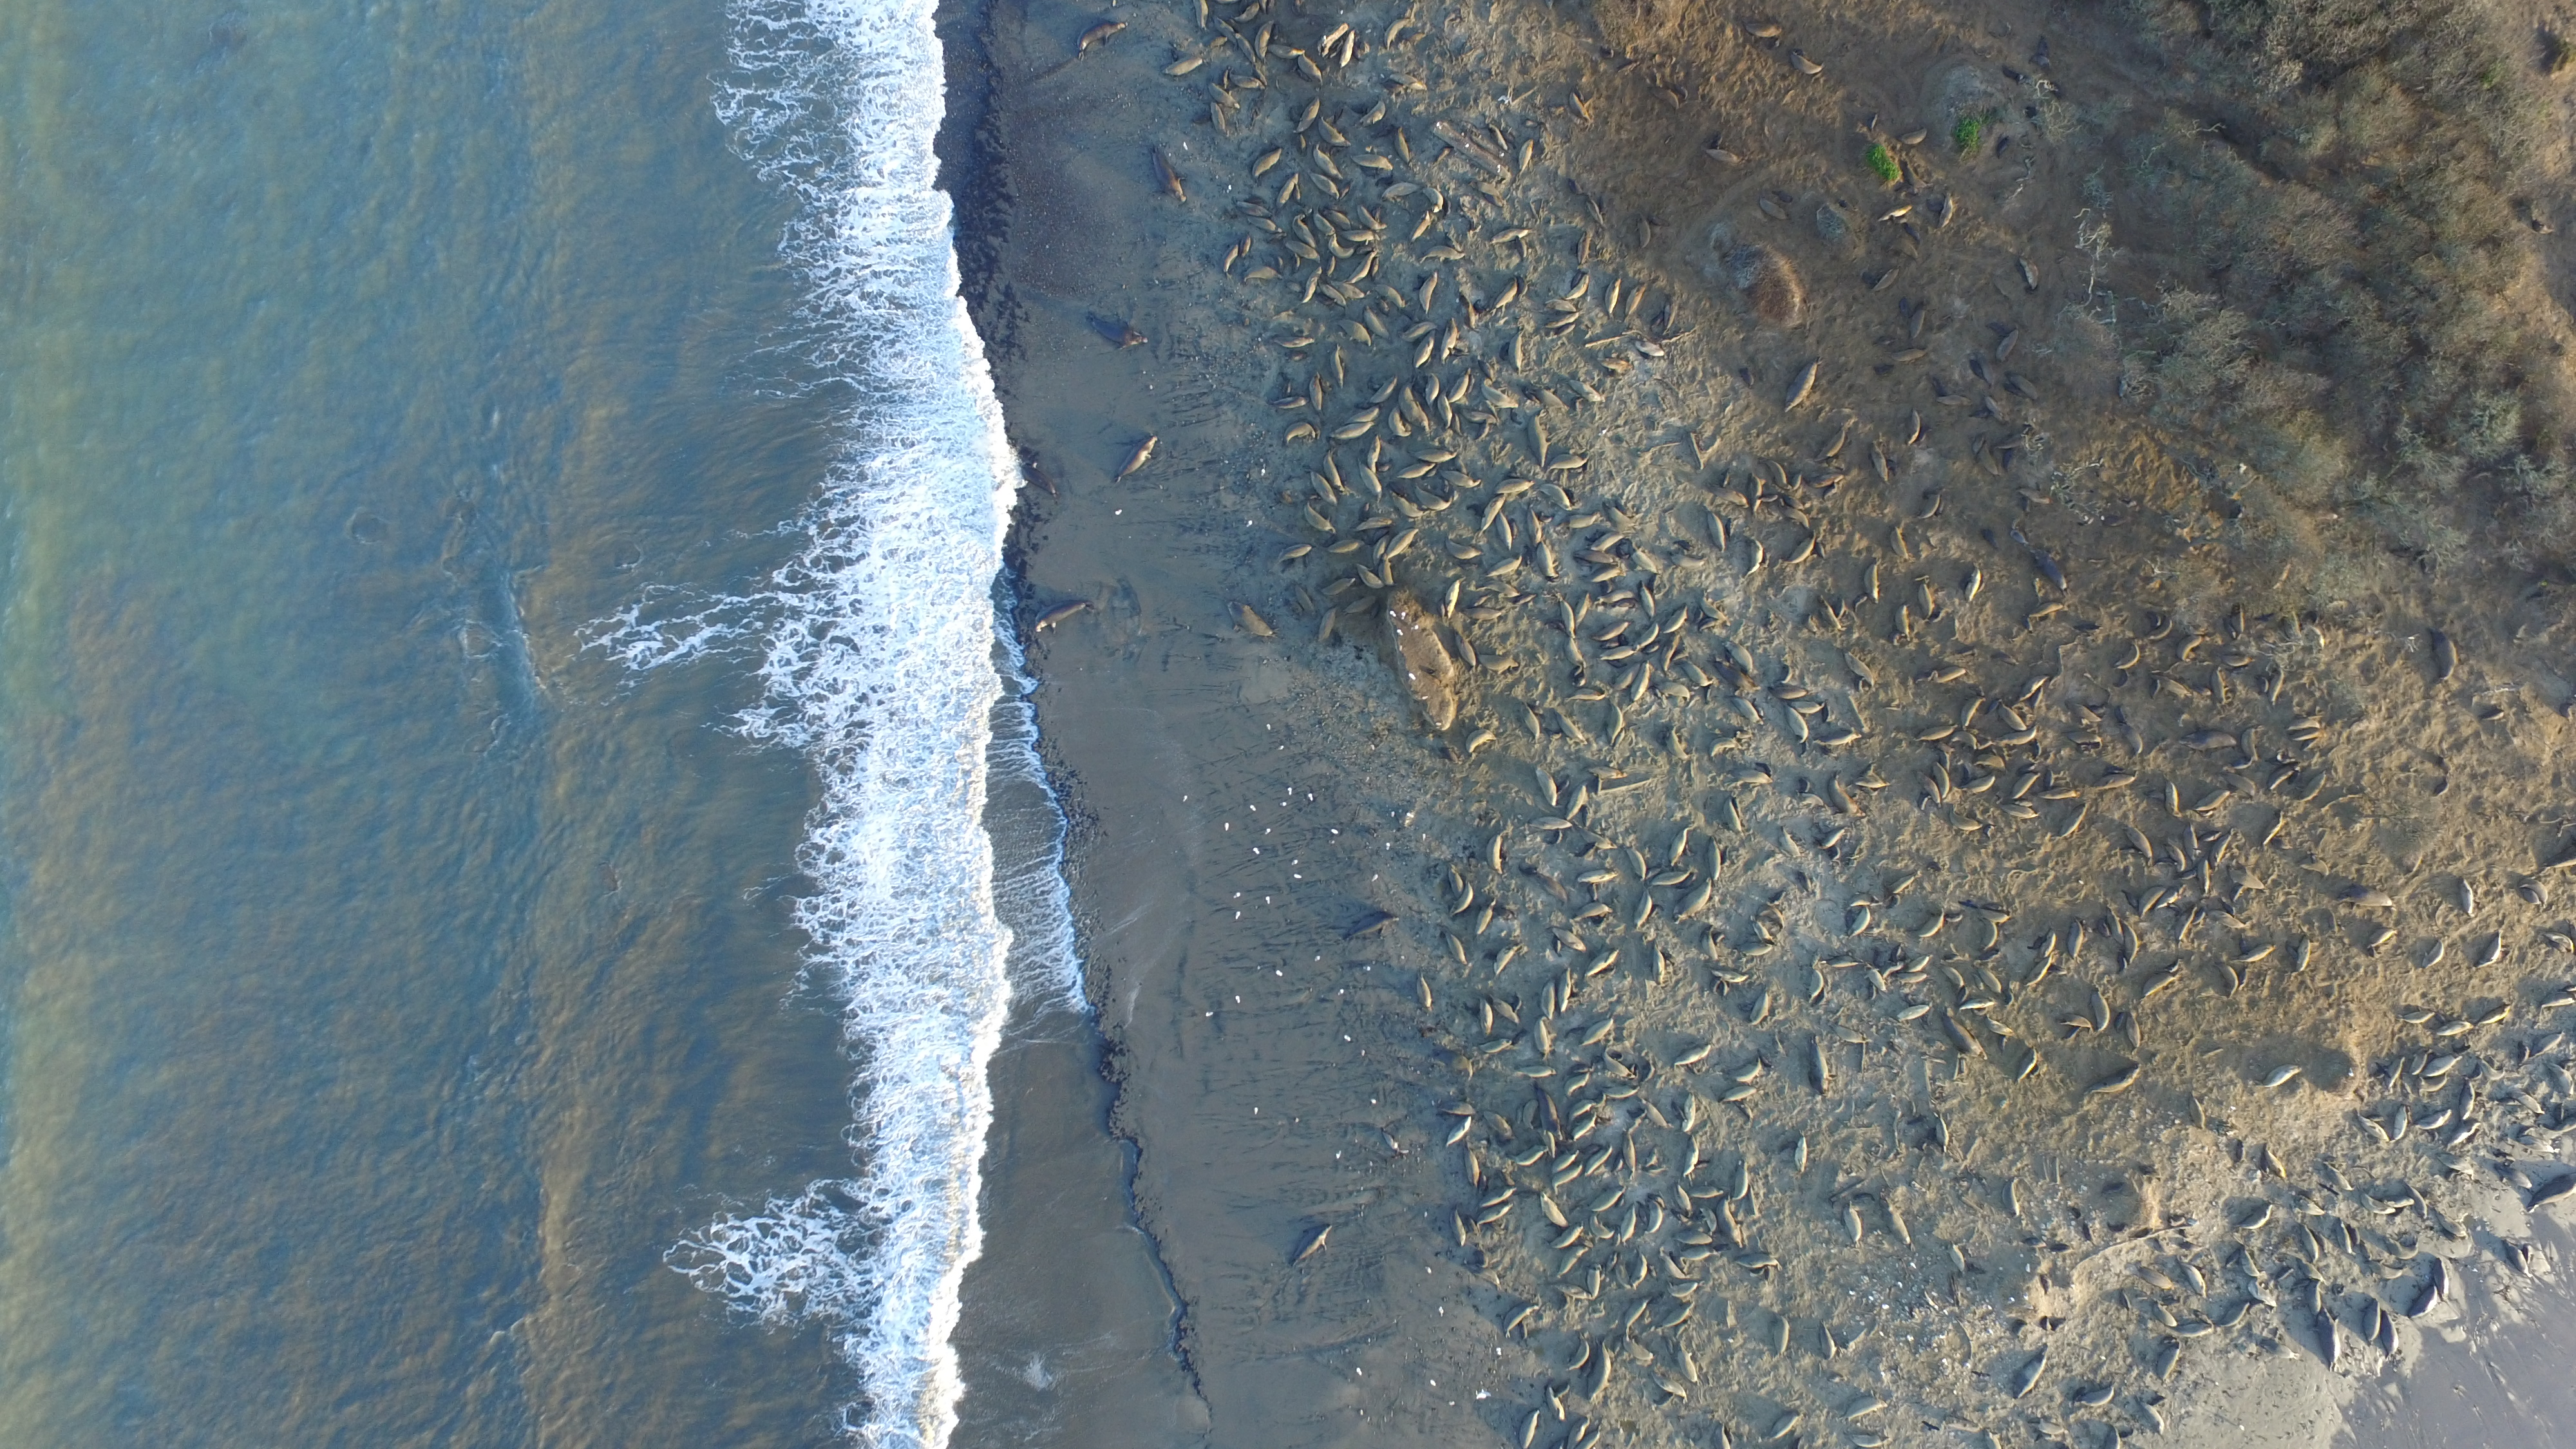adult male: (1095, 433, 1185, 483), (1072, 306, 1161, 356), (1143, 147, 1201, 211), (1215, 596, 1281, 649), (1016, 455, 1072, 511), (1939, 1008, 1997, 1063), (1801, 1030, 1847, 1097), (1780, 352, 1826, 416), (1072, 19, 1134, 64), (1339, 911, 1407, 950), (1031, 602, 1100, 639), (1534, 1083, 1576, 1139), (1292, 1226, 1338, 1272)
male juvenile / female juvenile /adult female: (1706, 663, 1759, 701), (1877, 1203, 1918, 1247), (1525, 409, 1553, 469), (1495, 1300, 1539, 1338), (1568, 771, 1601, 819), (1297, 501, 1338, 540), (1624, 281, 1660, 326), (1302, 469, 1341, 508), (1534, 1191, 1573, 1230), (1440, 929, 1476, 971), (1323, 446, 1355, 492), (1419, 265, 1445, 320), (1525, 768, 1566, 803), (1327, 343, 1357, 391), (1387, 518, 1421, 561), (1353, 92, 1387, 133), (1787, 525, 1821, 566), (1769, 1307, 1794, 1362), (1553, 709, 1591, 745), (1415, 242, 1467, 267), (1405, 380, 1430, 432), (1269, 541, 1318, 566), (1438, 534, 1481, 563), (1723, 639, 1759, 672), (1721, 1079, 1762, 1108), (1560, 1343, 1596, 1375), (1555, 1277, 1598, 1304), (1635, 1097, 1670, 1129), (1362, 306, 1392, 343), (1675, 1348, 1706, 1385), (1619, 1127, 1644, 1171), (1329, 419, 1380, 441), (1569, 379, 1610, 405), (1410, 483, 1451, 510), (1622, 1336, 1656, 1368), (1603, 274, 1624, 324), (1479, 651, 1522, 676), (1479, 1111, 1522, 1136), (1674, 1044, 1716, 1069), (1371, 366, 1398, 405), (1394, 492, 1433, 518), (1451, 630, 1477, 669), (1706, 510, 1729, 554), (1433, 1097, 1477, 1120), (1578, 1023, 1626, 1044), (1527, 812, 1575, 833), (1488, 993, 1522, 1023), (1552, 920, 1585, 950), (1357, 465, 1382, 506), (1281, 419, 1316, 448), (1318, 603, 1339, 649), (1663, 1307, 1706, 1330), (1451, 1203, 1468, 1258), (1640, 1198, 1665, 1237), (1352, 561, 1382, 593), (1247, 264, 1281, 292), (1730, 1154, 1752, 1198), (1536, 540, 1559, 580), (1628, 550, 1668, 573), (1474, 897, 1497, 938), (1796, 1134, 1815, 1182), (1635, 584, 1660, 621), (1555, 1242, 1580, 1279), (1472, 1000, 1497, 1037), (1509, 326, 1527, 377), (1380, 182, 1422, 203), (1490, 474, 1536, 494), (1583, 1189, 1629, 1208), (1412, 970, 1435, 1008), (1463, 727, 1497, 754), (1555, 640, 1589, 667), (1261, 395, 1311, 412), (1447, 573, 1465, 623), (1458, 607, 1520, 621), (1472, 1207, 1527, 1223), (1596, 1081, 1651, 1097), (1594, 621, 1635, 642), (1499, 936, 1520, 977), (1343, 594, 1380, 617), (1555, 600, 1578, 637), (1815, 1323, 1838, 1361), (1546, 453, 1594, 471), (1619, 658, 1644, 692), (1631, 662, 1652, 701), (1327, 538, 1373, 556), (1437, 469, 1483, 487), (1407, 448, 1463, 462), (1483, 559, 1523, 579), (1523, 504, 1541, 548), (1504, 1146, 1548, 1164), (1559, 511, 1614, 525), (1518, 704, 1539, 740), (1536, 1016, 1553, 1058), (1518, 1063, 1560, 1081), (1440, 863, 1465, 893), (1293, 587, 1316, 619), (1575, 589, 1591, 635), (1465, 1145, 1481, 1191), (1750, 533, 1764, 584), (1844, 1207, 1863, 1244), (1580, 1148, 1614, 1169), (1274, 334, 1318, 350), (1479, 584, 1523, 600), (1545, 481, 1571, 508), (1665, 610, 1693, 635), (1490, 824, 1502, 881), (1497, 511, 1514, 550), (1481, 1187, 1520, 1205), (1681, 1139, 1700, 1175), (1573, 545, 1615, 561), (1309, 377, 1329, 410), (1376, 561, 1399, 589), (1352, 517, 1398, 531), (1580, 566, 1626, 580), (1568, 692, 1612, 706), (1318, 577, 1355, 593), (1619, 1207, 1635, 1244), (1587, 1258, 1603, 1293), (1552, 1164, 1580, 1184), (1545, 1230, 1589, 1242), (1589, 531, 1622, 547), (1476, 1040, 1523, 1051), (1456, 878, 1468, 916), (1550, 1157, 1582, 1171), (1599, 593, 1642, 602), (1242, 235, 1249, 260)
pup: (1514, 234, 1532, 264), (1782, 490, 1806, 510), (1672, 533, 1693, 552), (1614, 495, 1631, 517), (1833, 594, 1849, 617), (1338, 182, 1353, 203), (1743, 364, 1755, 391), (1463, 504, 1486, 518), (1819, 485, 1842, 497), (1288, 255, 1304, 272), (1852, 591, 1863, 617), (1700, 621, 1714, 640), (1727, 517, 1736, 543), (1520, 274, 1529, 301), (1721, 467, 1730, 492), (1608, 658, 1626, 671), (1759, 492, 1778, 502), (1513, 594, 1541, 602), (1691, 612, 1706, 626), (1269, 232, 1292, 239), (1288, 352, 1311, 359), (1500, 340, 1507, 363), (1573, 267, 1580, 290), (1281, 384, 1295, 395), (1392, 483, 1407, 494), (1483, 421, 1490, 441), (1277, 255, 1284, 272), (1376, 462, 1394, 469), (1357, 246, 1371, 255), (1454, 416, 1461, 433), (1792, 469, 1798, 490), (1325, 260, 1334, 272), (1373, 258, 1378, 276), (1599, 644, 1619, 648)
